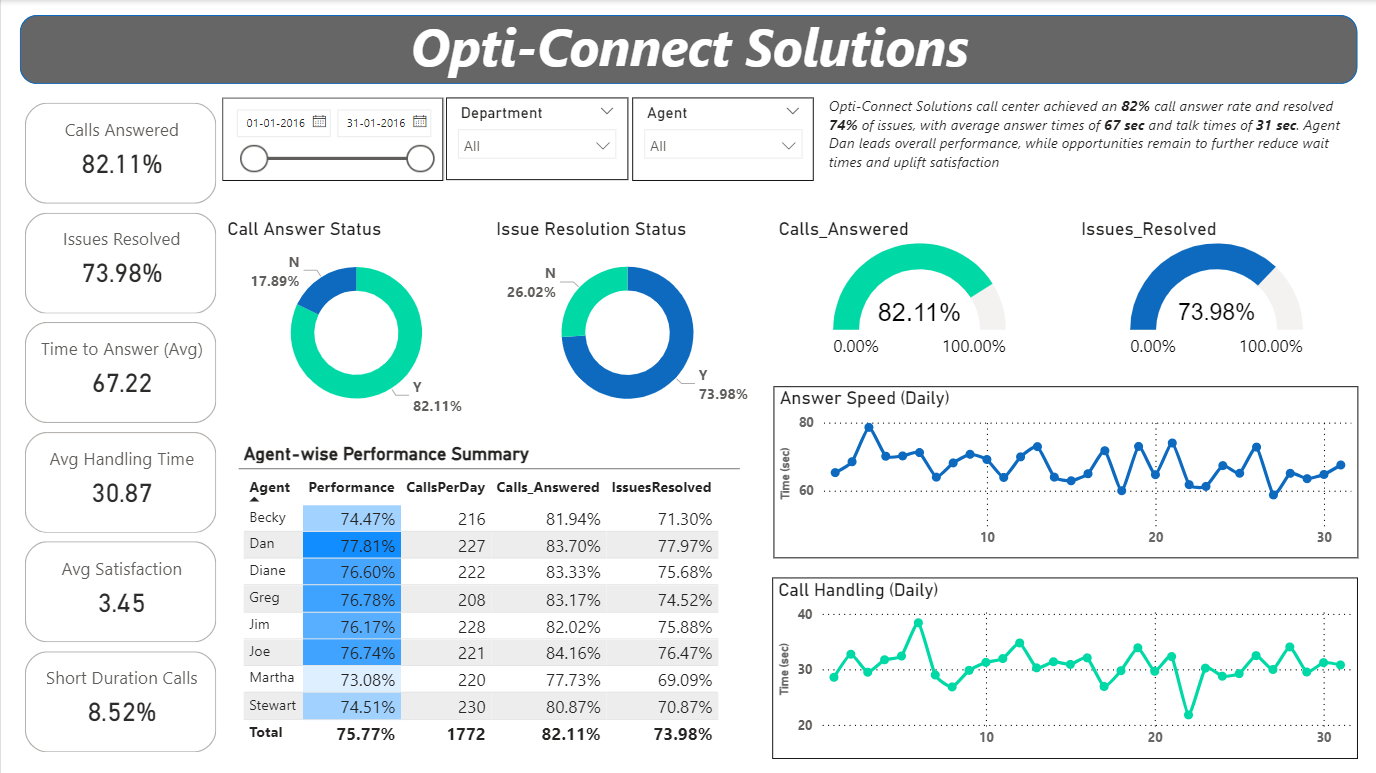

The dashboard page shown, as its layout file describes it:
{"tool":"powerbi","page":{"name":"Dashboard","canvas":[1280,720],"ordinal":0},"visuals":[{"type":"shape","box":[17.9,13.5,1244.4,64.3],"z":0},{"type":"textbox","box":[110.7,5,1060.4,79.3],"z":1000},{"type":"cardVisual","fields":{"Data":["Call_center.Calls_Answered%","Call_center.IssuesResolved%","Avg(Call_center.Speed of Answer)","Avg(Call_center.AvgTalkDuration)","Call_center.AvgSatisfaction","Call_center.Short_Anwseres%"]},"box":[17.8,90.3,188.2,615.3],"z":2000},{"type":"lineChart","title":"Call Handling (Daily)","fields":{"Category":["Call_center.Date.Variation.Date Hierarchy.Day"],"Y":["Avg(Call_center.AvgTalkDuration)"]},"box":[718,537.1,545,168.5],"z":3000},{"type":"lineChart","title":"Answer Speed (Daily)","fields":{"Category":["Call_center.Date.Variation.Date Hierarchy.Day"],"Y":["Avg(Call_center.Speed of Answer)"]},"box":[718.3,359.8,544.1,160.2],"z":4000},{"type":"slicer","fields":{"Values":["Call_center.Date"]},"box":[206,90.3,206,77.6],"z":5000},{"type":"pivotTable","title":"Agent-wise Performance Summary","fields":{"Rows":["Call_center.Agent"],"Values":["Call_center.AgentPerformanceScore","Call_center.CallsPerDay","Call_center.Calls_Answered%","Call_center.IssuesResolved%"]},"box":[221.2,411.9,466.6,293.7],"z":6000},{"type":"slicer","fields":{"Values":["Call_center.Department"]},"box":[413.8,90.5,169.6,76.9],"z":7000},{"type":"gauge","fields":{"Y":["Call_center.IssuesResolved%"]},"box":[1000.6,202.1,261.9,141.1],"z":8000},{"type":"gauge","fields":{"Y":["Call_center.Calls_Answered%"]},"box":[718.3,202.1,272.1,141.1],"z":9000},{"type":"slicer","fields":{"Values":["Call_center.Agent"]},"box":[587.4,90.3,169.1,77.6],"z":10000},{"type":"donutChart","title":"Call Answer Status","fields":{"Y":["CountNonNull(Call_center.Answered)"],"Category":["Call_center.Answered"]},"box":[205.8,202.4,249.9,195.6],"z":11000},{"type":"donutChart","title":"Issue Resolution Status","fields":{"Y":["CountNonNull(Call_center.Resolved)"],"Category":["Call_center.Resolved"]},"box":[455.7,202.4,254.4,195.6],"z":12000},{"type":"textbox","box":[765.4,83.9,497.1,83.9],"z":13000}]}

Visuals, with their boxes in screenshot pixels (x1, y1, x2, y2), scaled from the page's 1280x720 canvas onto the 1376x773 screenshot:
shape: box(19, 14, 1357, 84)
textbox: box(119, 5, 1259, 91)
cardVisual - Call_center.Calls_Answered% x Call_center.IssuesResolved%: box(19, 97, 221, 758)
"Call Handling (Daily)" lineChart: box(772, 577, 1358, 758)
"Answer Speed (Daily)" lineChart: box(772, 386, 1357, 558)
slicer - Call_center.Date: box(221, 97, 443, 180)
"Agent-wise Performance Summary" pivotTable: box(238, 442, 739, 758)
slicer - Call_center.Department: box(445, 97, 627, 180)
gauge - Call_center.IssuesResolved%: box(1076, 217, 1357, 368)
gauge - Call_center.Calls_Answered%: box(772, 217, 1065, 368)
slicer - Call_center.Agent: box(631, 97, 813, 180)
"Call Answer Status" donutChart: box(221, 217, 490, 427)
"Issue Resolution Status" donutChart: box(490, 217, 763, 427)
textbox: box(823, 90, 1357, 180)
